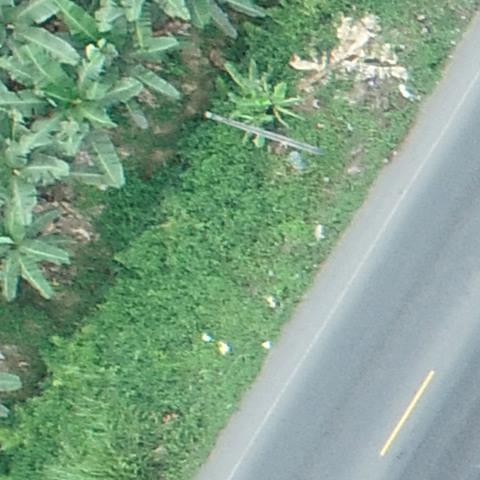Banana-plant: (0, 31, 146, 192), (51, 0, 184, 132), (0, 185, 73, 303), (212, 53, 303, 147), (0, 109, 69, 223), (0, 0, 89, 68)
